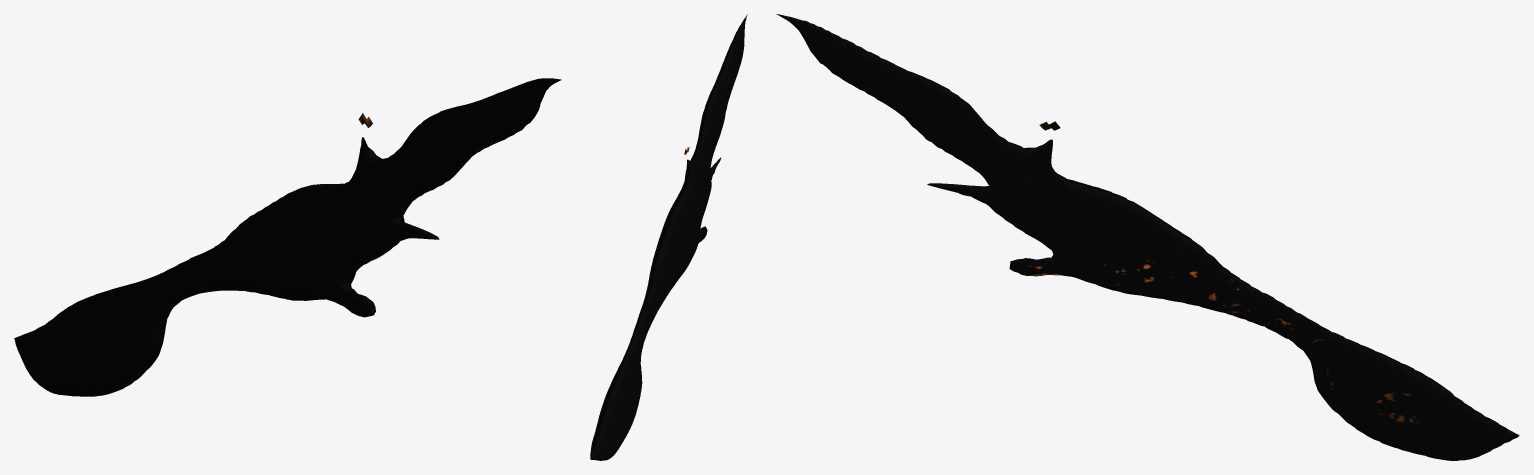
File: ветка.fbx
3 views of the same model, side by side, from view 1: azimuth 30°, elevation 25°; view 2: azimuth 150°, elevation 25°; view 3: azimuth 270°, elevation 25° (orthographic). The views are drawn at different scales.
Visible parts, largest first — view 1: root; view 2: root; view 3: root.
Part boxes in pixels (x1,y1,x2,y2): root: (14, 78, 561, 396); root: (590, 14, 747, 460); root: (776, 14, 1519, 460).
Size of the model in its own units: 0.1747 by 0.7276 by 0.995.
Materials: 1 (1 with a texture image).
